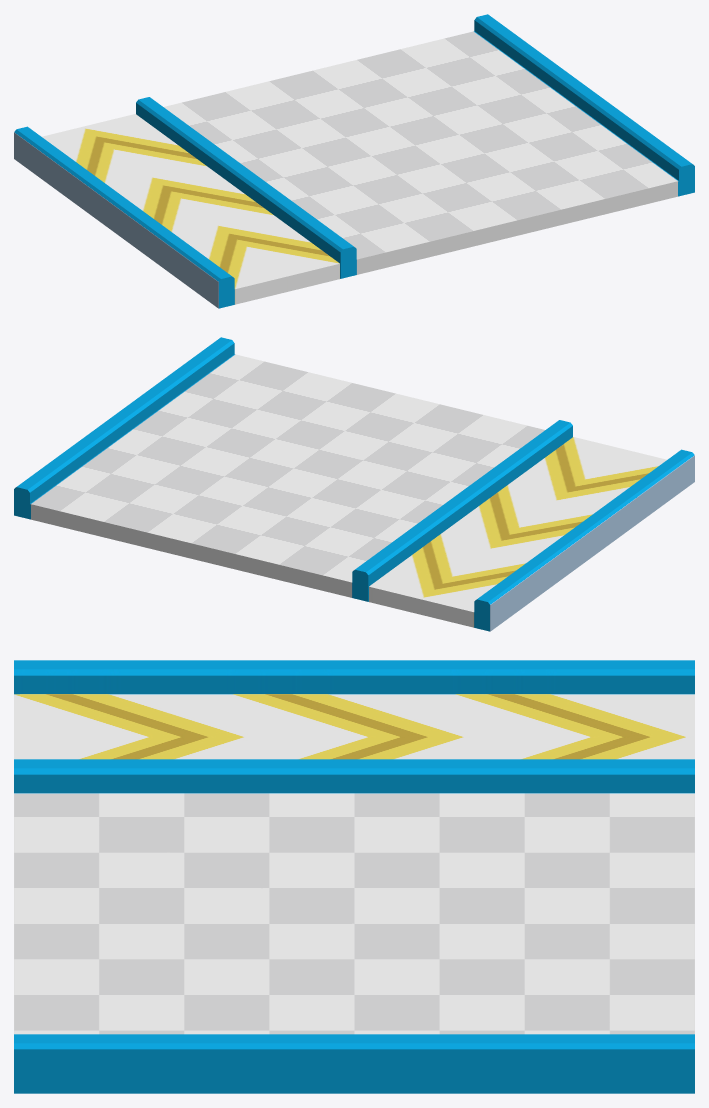
Rendered from floor.fbx.
3 renders of one model, top to bottom at view 1: azimuth 30°, elevation 25°; view 2: azimuth 150°, elevation 25°; view 3: azimuth 270°, elevation 25°, orthographic. The views are drawn at different scales.
Visible parts, largest first — view 1: pCube1, pCube3; view 2: pCube1, pCube3; view 3: pCube1, pCube3.
Part boxes in pixels (box(x1,y1,x2,y2)): pCube1: box(136, 14, 694, 278); pCube3: box(14, 114, 339, 308); pCube1: box(14, 337, 572, 601); pCube3: box(369, 437, 694, 631); pCube1: box(14, 759, 694, 1093); pCube3: box(14, 660, 694, 759).
Size of the model in its own units: 126 by 7.32 by 93.53.
